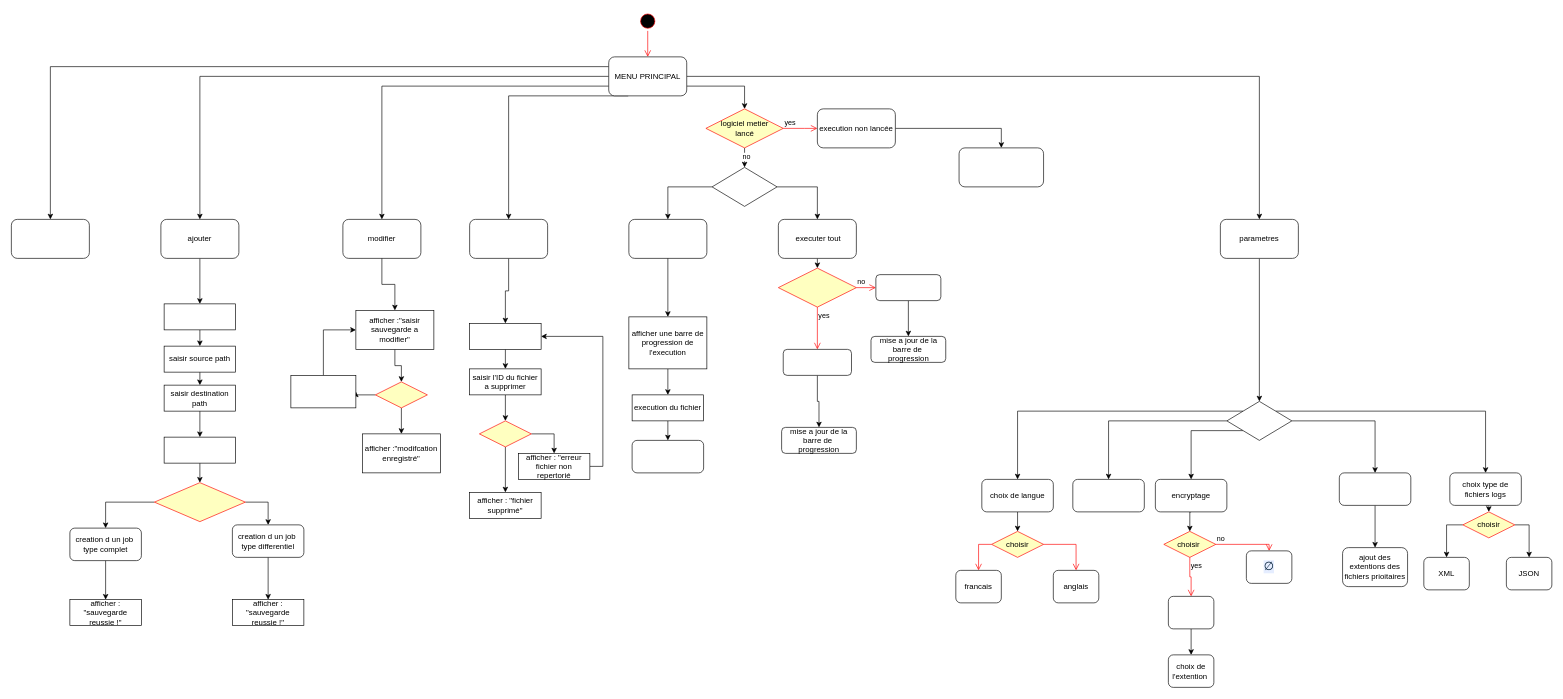
This 1563x699 diagram has some shape labels left out. The shapes that lost their labels are listed below. From the top down, each one's box as (x1, y1, x2, y2) in pixels, then its label:
(958, 147, 1044, 187): afficher : "lancement impossible logiciel metier en cours d'utilisation
(11, 219, 89, 258): afficher les jobs
(469, 219, 548, 258): choix du fichier a supprimer
(628, 219, 707, 258): executer
(778, 267, 856, 307): somme de la taille des fichiers < 100 ko
(875, 274, 941, 301): execution en sequentielle
(163, 303, 236, 330): saisir nom fichier
(469, 323, 541, 349): afficher "supprimer un fichier
(783, 349, 852, 375): execution en multithread
(290, 375, 356, 408): afficher :"une erreure c est produite"
(375, 381, 427, 408): saisie valide
(163, 436, 236, 463): saisir type de sauvegarde
(479, 420, 531, 447): si fichier existe
(631, 440, 704, 473): mise a jouir de la barre de progression
(154, 482, 245, 522): complet ou differentiel
(1072, 479, 1144, 512): choix du logiciel metier
(1339, 472, 1411, 505): fichier prioritaire
(1168, 596, 1214, 629): choix de la clé
